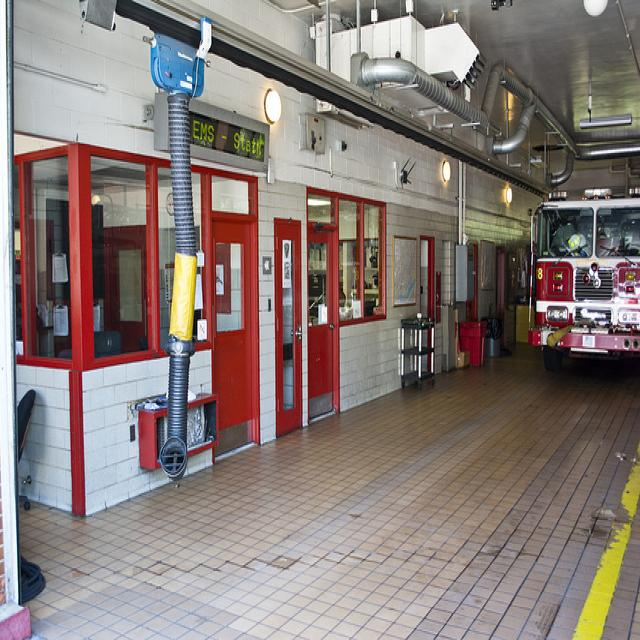Vehicle: (528, 189, 640, 375)
